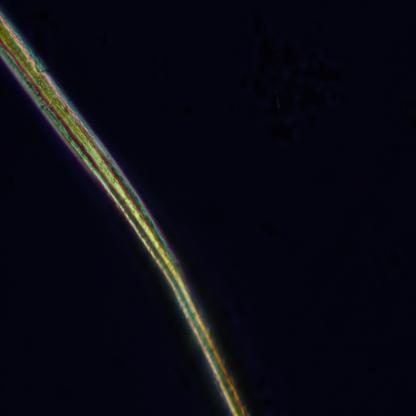Microfibre: (0, 13, 242, 416)
